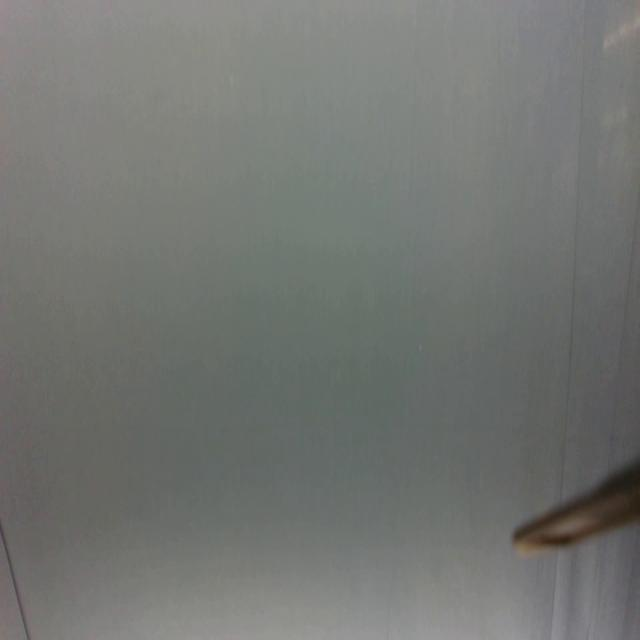crease: (562, 0, 588, 485), (606, 184, 640, 464), (1, 514, 30, 640), (585, 537, 603, 640), (548, 551, 561, 640)
